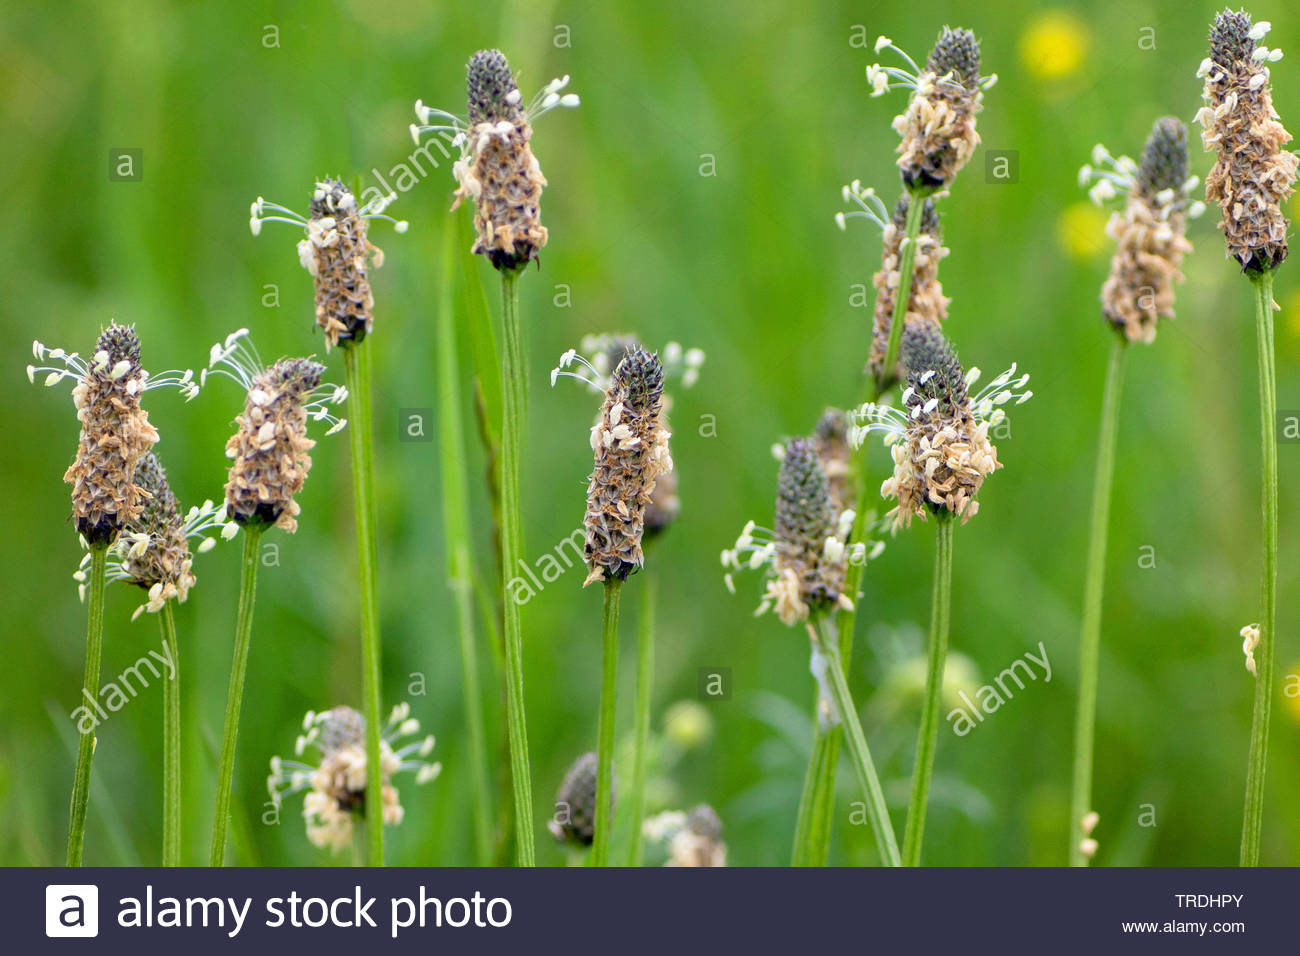buckhorn plantain: (862, 198, 985, 867), (748, 420, 880, 726), (421, 50, 573, 301), (1190, 8, 1300, 321), (563, 324, 665, 598), (891, 20, 991, 290), (279, 688, 443, 841), (1095, 117, 1201, 353), (204, 353, 318, 552), (51, 337, 150, 552), (285, 175, 385, 342)
